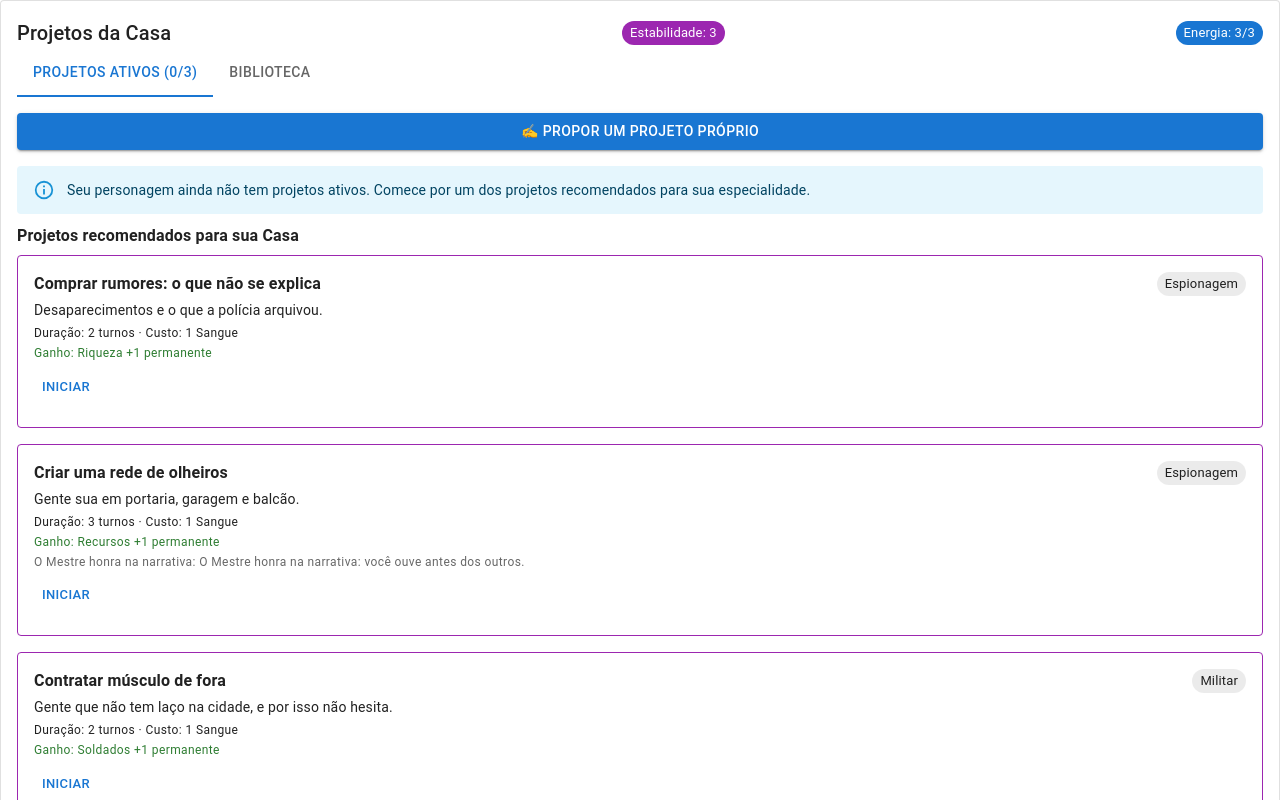
Scenario: HouseProjectsPanel › warns and requires GM approval when the player edits a rule
Expected: the heading "Projetos da Casa" is shown, top-left (17, 17), bottom-right (171, 49)
Click the tab "Biblioteca": (270, 73) top-left (213, 49), bottom-right (326, 97)
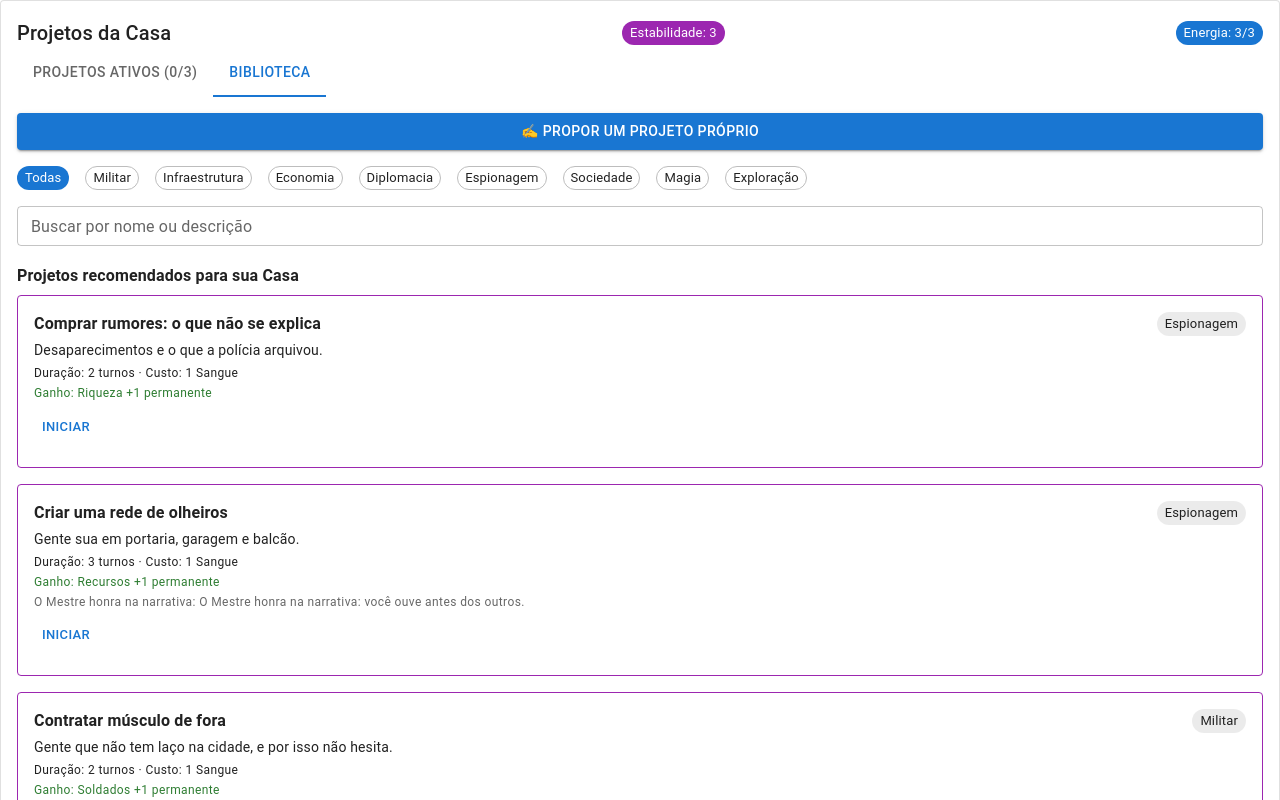
Click the button "✍️ Propor um projeto próprio": (640, 131) top-left (17, 113), bottom-right (1263, 150)
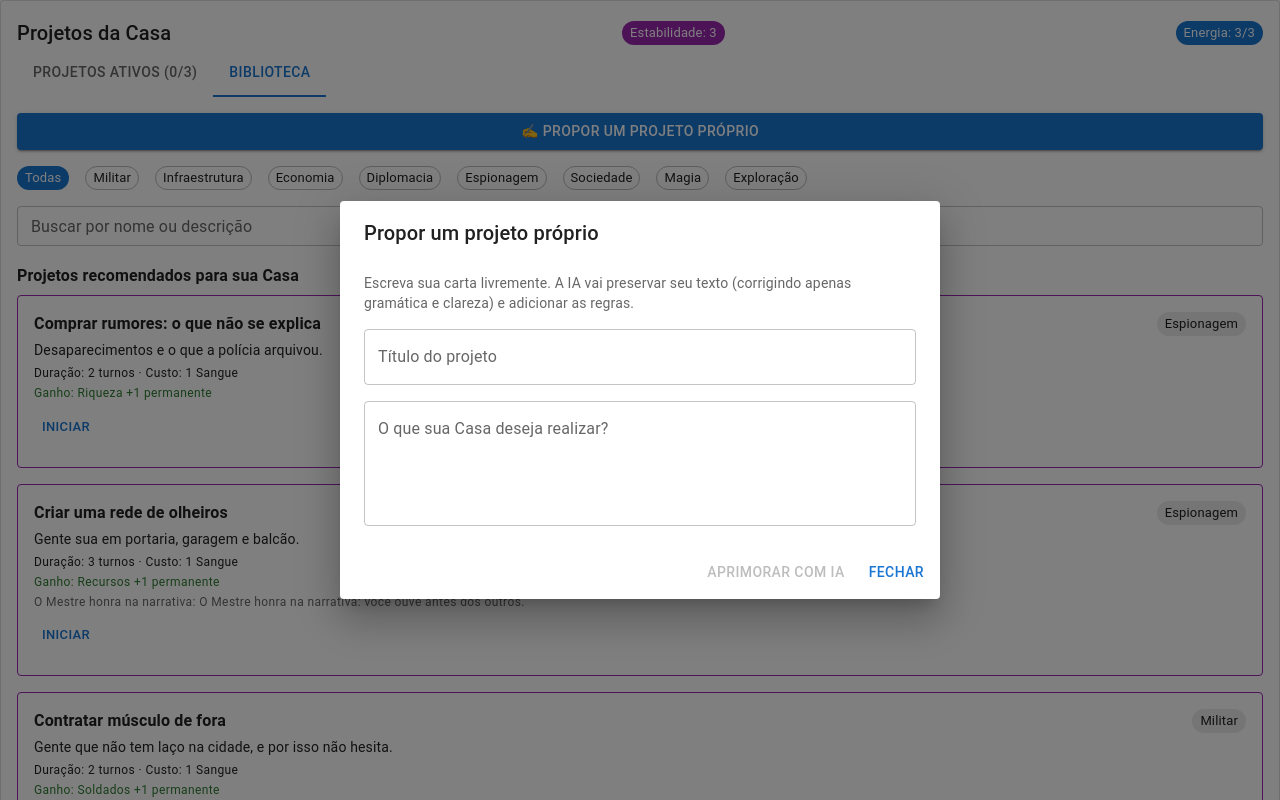
In the text box labelled "O que sua Casa deseja realizar?": (640, 464) top-left (378, 418), bottom-right (902, 510), type "Rede secreta entre portos"
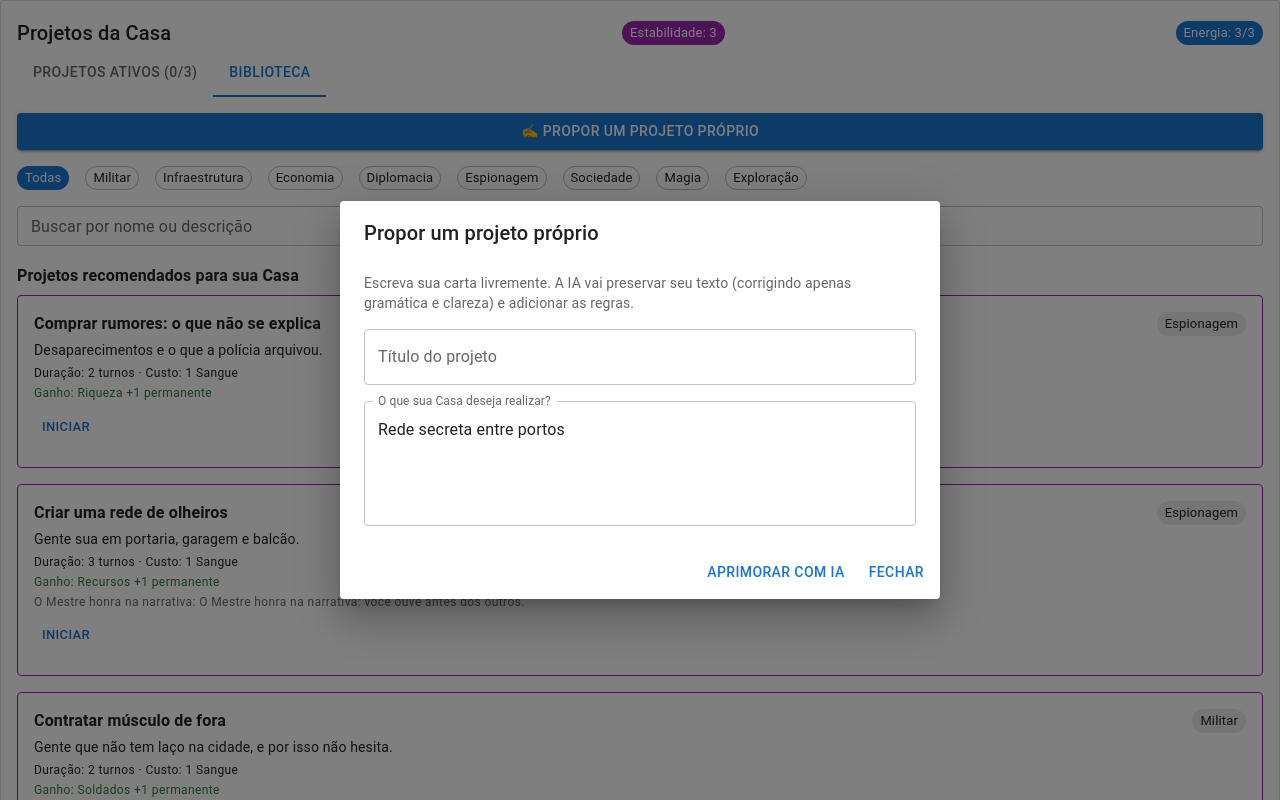
Click the button "Aprimorar com IA": (776, 573) top-left (699, 554), bottom-right (853, 591)
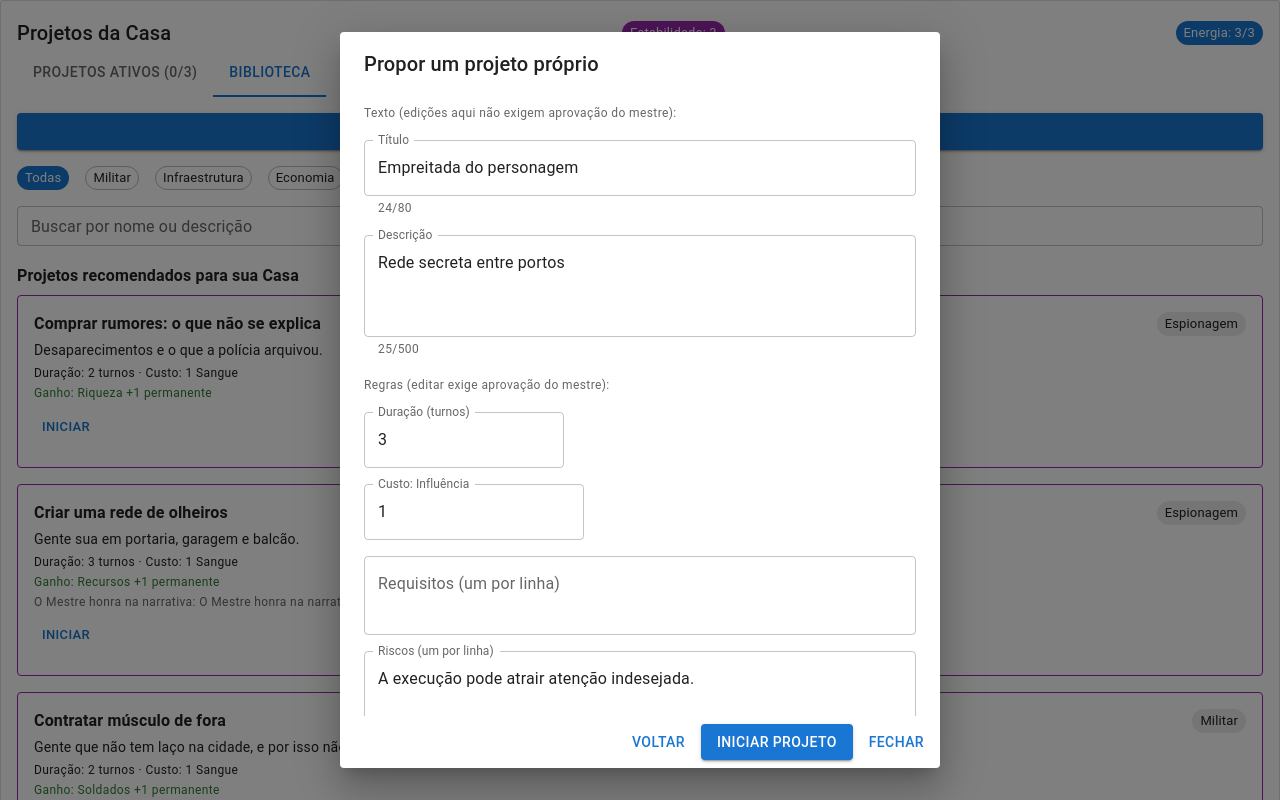
Replace the text in the number field labelled "Duração (turnos)" with "5": (464, 440) top-left (364, 412), bottom-right (564, 468)
(page scrolled)
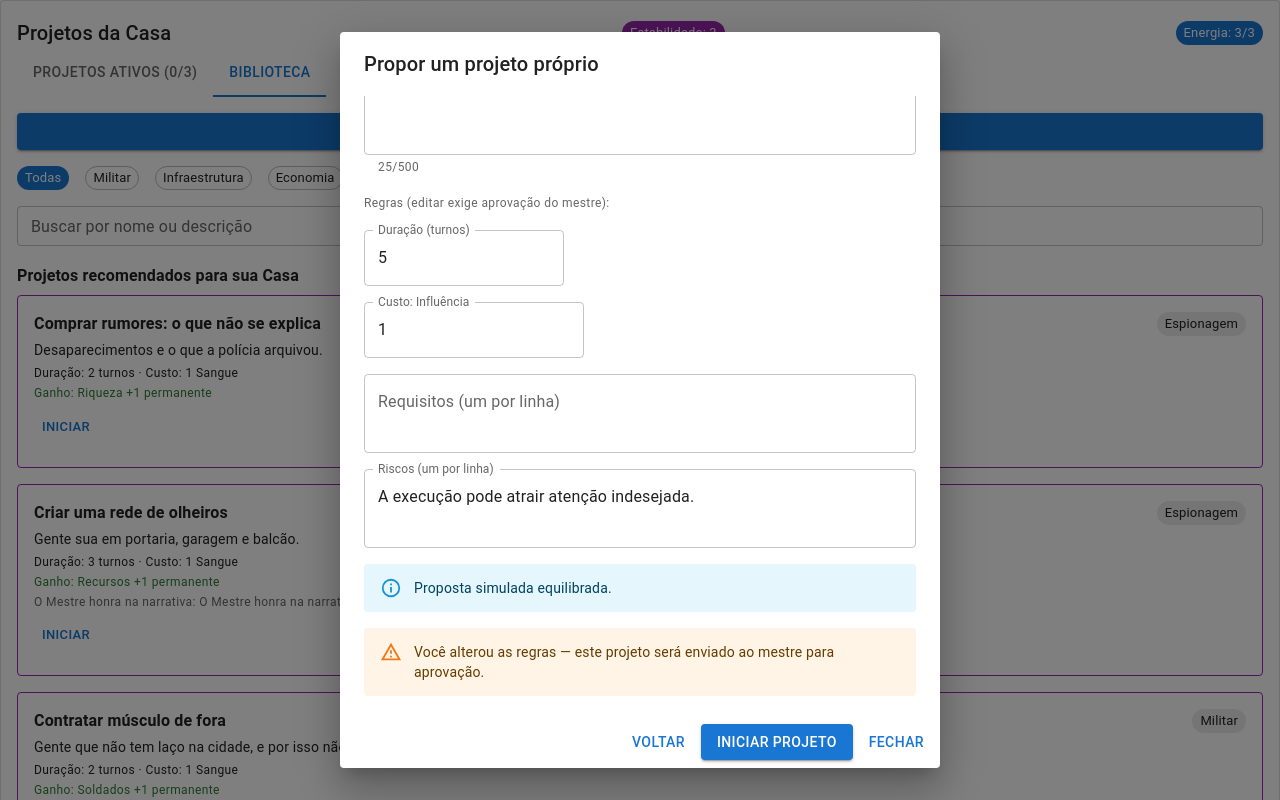
Expected: the text "enviado ao mestre para aprovação" is shown, top-left (414, 644), bottom-right (834, 680)
